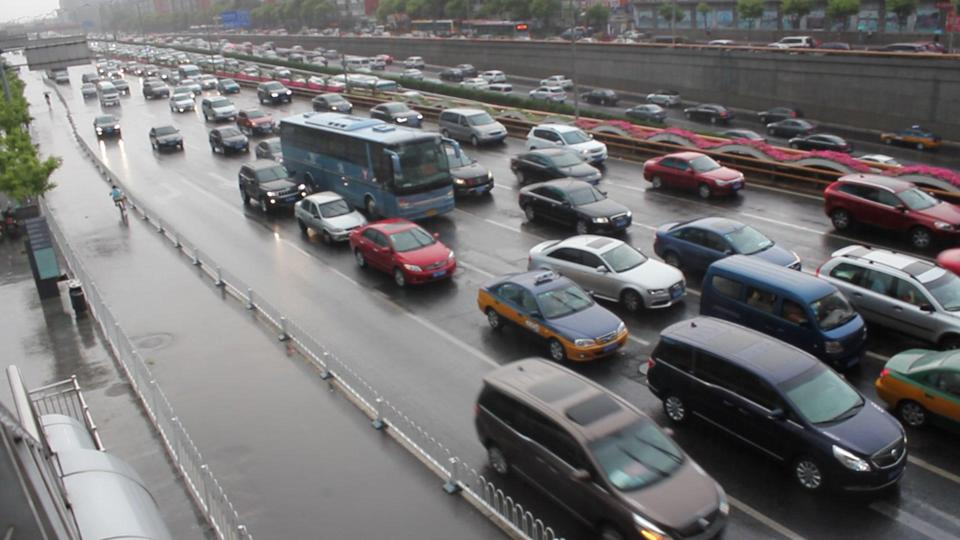Bus: (279, 112, 453, 224)
Car: (811, 243, 960, 349), (476, 270, 627, 362), (526, 234, 685, 315), (822, 171, 960, 251), (652, 215, 799, 285), (872, 348, 960, 438), (347, 218, 456, 287), (517, 177, 631, 235), (641, 150, 743, 201), (509, 147, 598, 194), (294, 189, 369, 243), (421, 146, 493, 198), (524, 122, 607, 166), (237, 158, 304, 212), (369, 99, 421, 130), (254, 137, 290, 168)
Minivan: (472, 354, 730, 540), (646, 317, 906, 494), (697, 253, 864, 364), (438, 105, 506, 148)
